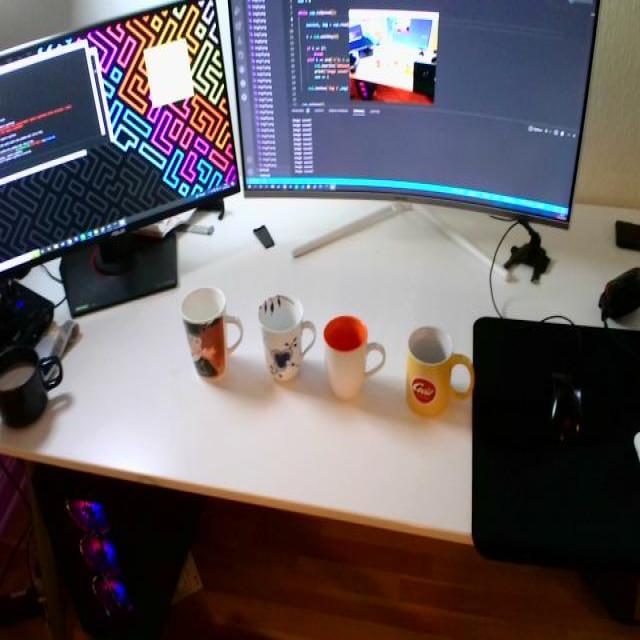cup: (400, 318, 476, 422), (176, 278, 242, 377), (326, 299, 390, 398), (259, 282, 314, 389)
